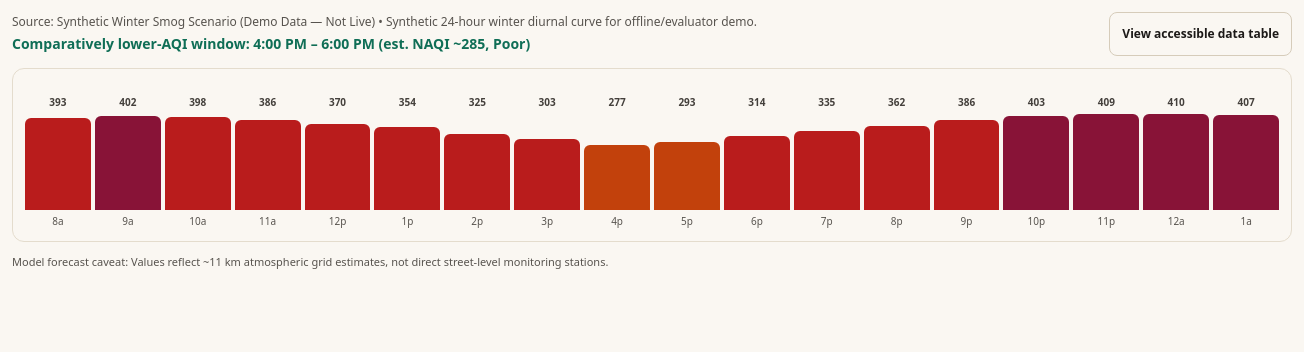
Test: UI Screens & Accessible Visualizations › toggles HourlyForecastChart between SVG visualization and accessible data table
Click the button "View accessible data table": click(1201, 34) [1109, 12, 1292, 56]
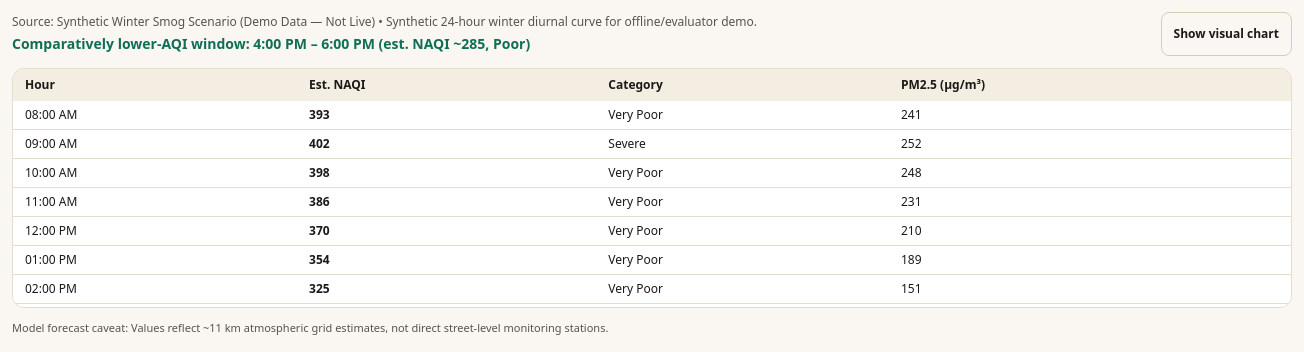
Expected: the column heading "Est. NAQI" is shown, [297, 69, 596, 101]
